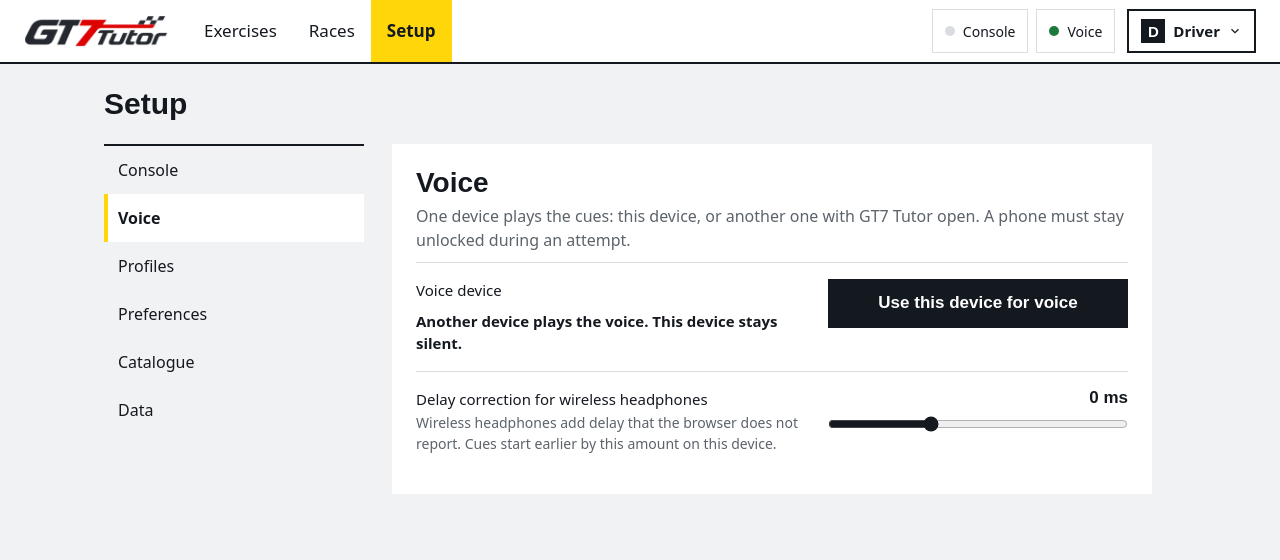
Test: setup › enabling_voice_here_shows_other_device_disabled
Expected: the heading "Voice" is shown, [416, 166, 489, 198]
Expected: the text "Another device plays the voice. This device stays silent." is shown, [416, 310, 804, 355]
Click the button "Use this device for voice".
click(978, 304)  # box [828, 279, 1128, 328]
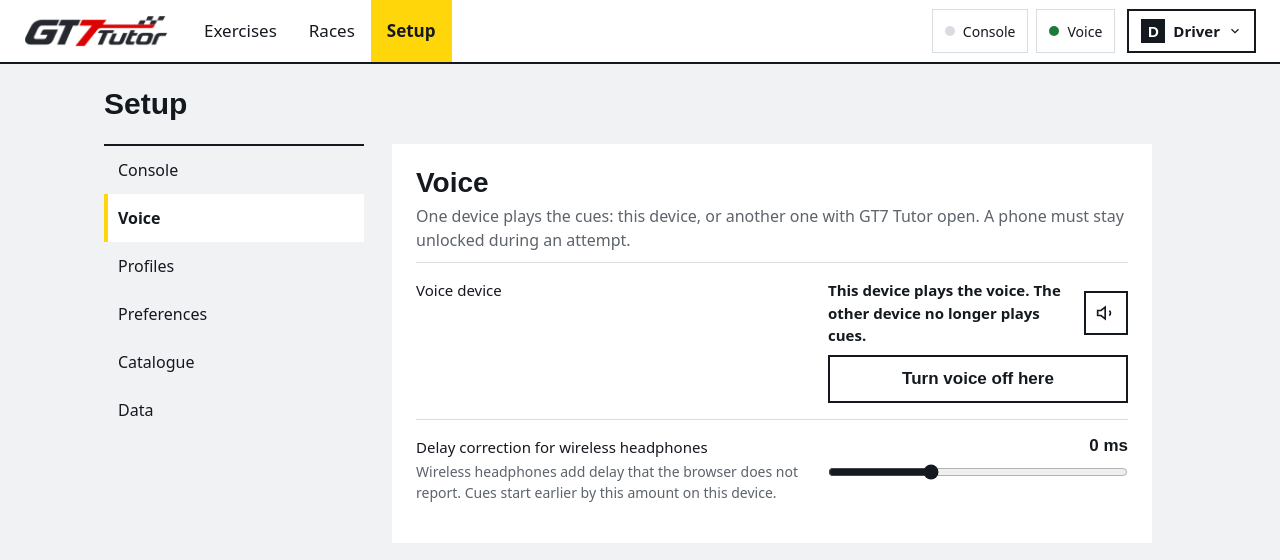
Expected: the text "This device plays the voice. The other device no longer plays cues." is shown, [828, 279, 1072, 347]
Expected: the 2nd button is enabled, [1084, 291, 1128, 335]
Expected: the 2nd icon is shown, [1096, 303, 1116, 323]
